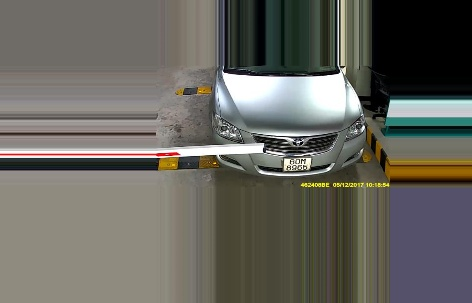plate: (281, 155, 312, 173)
